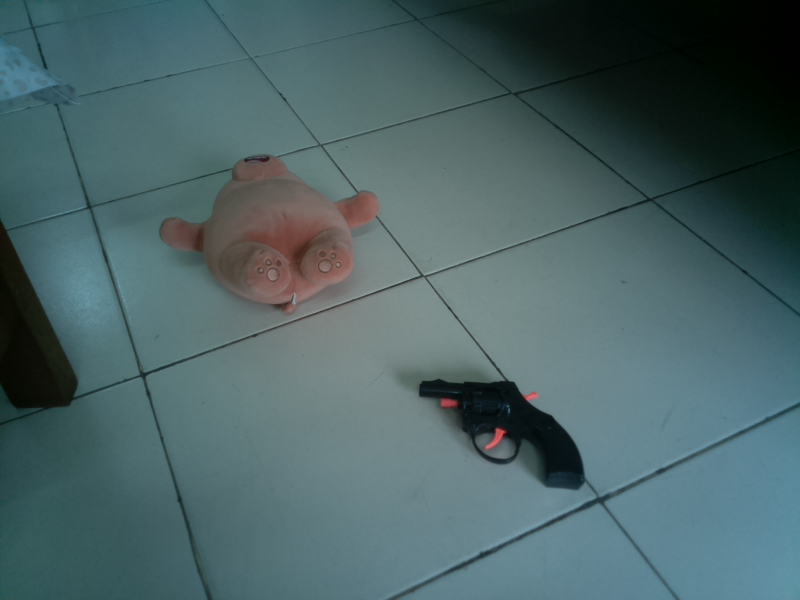Gun: (405, 365, 590, 496)
